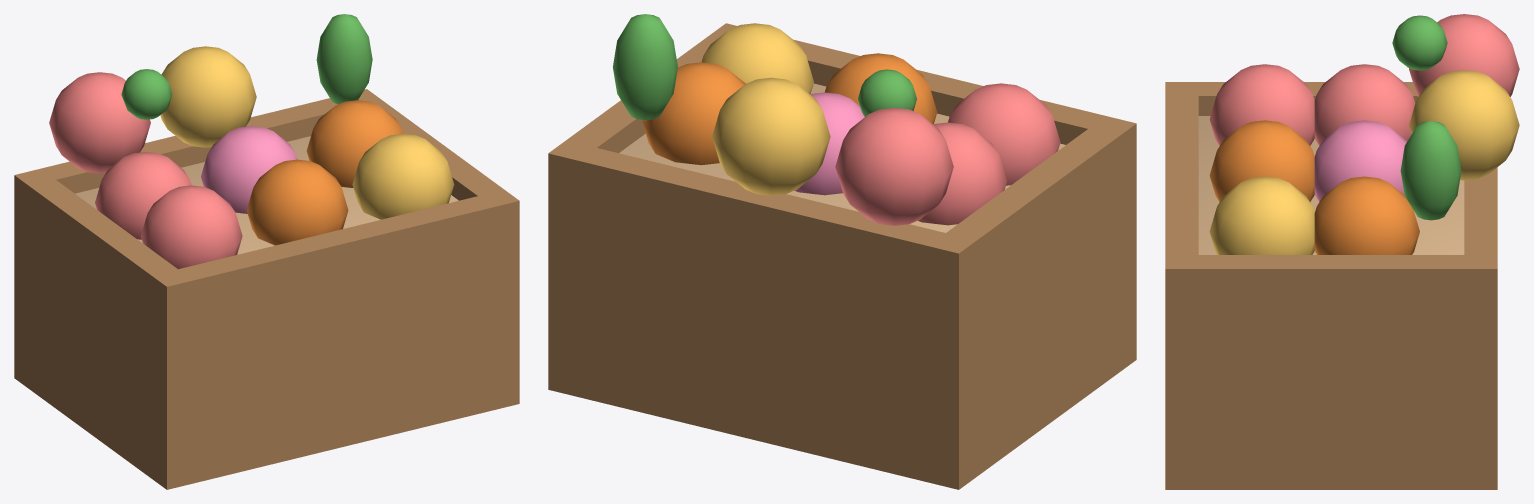
The model's file is shop_crate.glb.
The picture shows the model from 3 angles, left to right: view 1: azimuth 30°, elevation 25°; view 2: azimuth 150°, elevation 25°; view 3: azimuth 270°, elevation 25°; orthographic projection. The views are drawn at different scales.
Visible parts, largest first — view 1: shop_crate; view 2: shop_crate; view 3: shop_crate.
Boxes of the visible parts, box(x1,y1,x2,y2) form: shop_crate: box(14, 14, 519, 489); shop_crate: box(548, 14, 1136, 489); shop_crate: box(1165, 14, 1519, 489).
Size of the model in its own units: 0.8 by 0.679 by 0.64.
